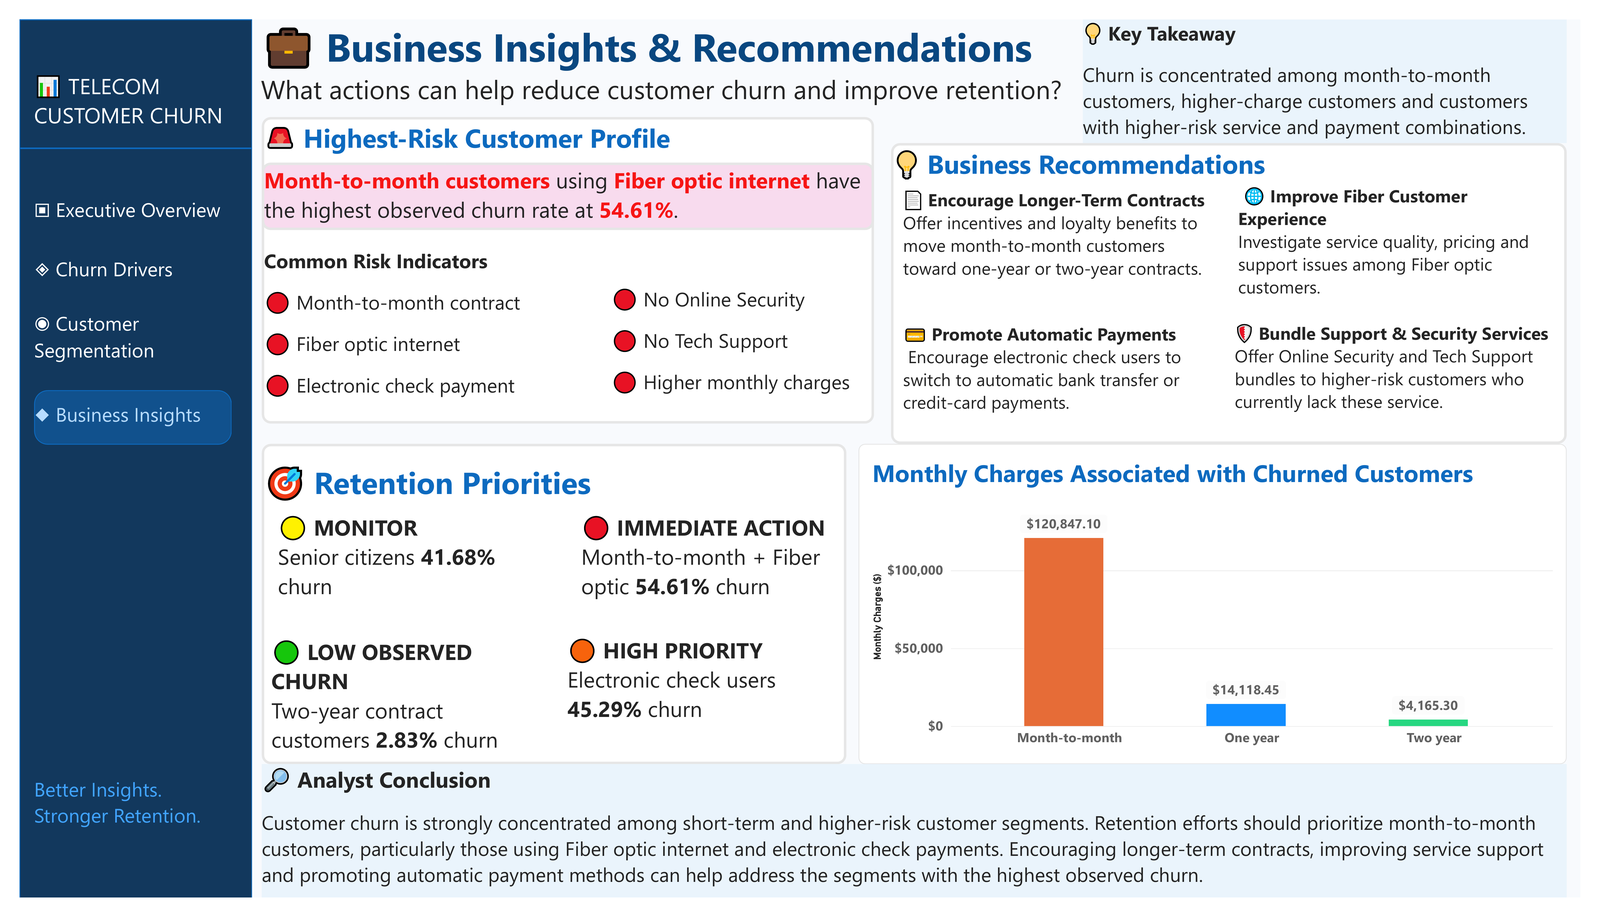

Layout of this report page (visuals, bound fields, positions):
{"tool":"powerbi","page":{"name":"Page 4","canvas":[1920,1080],"ordinal":3},"visuals":[{"type":"shape","box":[0,0,286.1,1080.6],"z":0},{"type":"textbox","box":[18.1,63.3,242.5,86.9],"z":1000},{"type":"shape","box":[0,99.5,285.9,117.6],"z":2000},{"type":"textbox","box":[18.1,468.7,242.5,54.3],"z":4000},{"type":"textbox","box":[18.1,930.2,242.5,103.2],"z":5000},{"type":"shape","box":[18.1,456,242.5,67],"z":6000},{"type":"textbox","box":[18.1,217.2,242.5,41.6],"z":7000},{"type":"textbox","box":[18.1,289.5,184.6,45.2],"z":8000},{"type":"textbox","box":[18.1,356.5,267.8,77.8],"z":8001},{"type":"textbox","box":[297.5,0,982.5,64.2],"z":8002},{"type":"textbox","box":[296.8,63.3,1009.8,56.1],"z":8003},{"type":"textbox","box":[297.5,119.9,753.4,376.7],"z":8004},{"type":"textbox","box":[727.8,289,308.2,179.8],"z":8005},{"type":"textbox","box":[297.5,175.5,753.4,83.5],"z":8006},{"type":"textbox","box":[1072.4,152,830.5,370.3],"z":8007,"group":"g3"},{"type":"textbox","box":[1087.4,206.7,383.1,137.4],"z":8008,"group":"g1"},{"type":"textbox","box":[1499,201.5,383.2,143.2],"z":8009,"group":"g1"},{"type":"textbox","box":[1087.4,372,383.1,115.9],"z":8010,"group":"g1"},{"type":"textbox","box":[1495.1,370.9,387.1,151],"z":8011,"group":"g1"},{"type":"group","id":"g1","title":"Group 1","box":[1087.4,201.5,794.8,320.3],"z":8012,"group":"g3"},{"type":"textbox","box":[297.5,522.3,719.2,393.8],"z":8013},{"type":"textbox","box":[318.8,605.8,340.4,150.5],"z":8015,"group":"g2"},{"type":"textbox","box":[691.3,605.8,325.4,125.8],"z":8016,"group":"g2"},{"type":"textbox","box":[310.3,759.2,317.4,156.8],"z":8017,"group":"g2"},{"type":"textbox","box":[674.2,756.3,342.5,128.1],"z":8018,"group":"g2"},{"type":"group","id":"g2","title":"Group 2","box":[310.3,605.8,706.4,310.2],"z":8019},{"type":"clusteredColumnChart","title":"Monthly Charges Associated with Churned Customers","fields":{"Category":["WA_Fn-UseC_-Telco-Customer-Churn.Contract"],"Y":["Sum(WA_Fn-UseC_-Telco-Customer-Churn.MonthlyCharges)"]},"box":[1031.7,522.3,871.2,393.8],"z":8020},{"type":"textbox","box":[297.5,916.1,1605.4,164.8],"z":8021},{"type":"textbox","box":[1307.8,0,595.1,152],"z":8022},{"type":"group","id":"g3","title":"Group 3","box":[1072.4,152,830.5,370.3],"z":8023}]}

Visuals, with their boxes in screenshot pixels (x1, y1, x2, y2), scaled from the page's 1920x1080 canvas onto the 1600x917 screenshot:
shape: <region>0, 0, 238, 916</region>
textbox: <region>15, 54, 217, 128</region>
shape: <region>0, 84, 238, 184</region>
textbox: <region>15, 398, 217, 444</region>
textbox: <region>15, 790, 217, 877</region>
shape: <region>15, 387, 217, 444</region>
textbox: <region>15, 184, 217, 220</region>
textbox: <region>15, 246, 169, 284</region>
textbox: <region>15, 303, 238, 369</region>
textbox: <region>248, 0, 1067, 55</region>
textbox: <region>247, 54, 1089, 101</region>
textbox: <region>248, 102, 876, 422</region>
textbox: <region>606, 245, 863, 398</region>
textbox: <region>248, 149, 876, 220</region>
textbox: <region>894, 129, 1586, 443</region>
textbox: <region>906, 176, 1225, 292</region>
textbox: <region>1249, 171, 1568, 293</region>
textbox: <region>906, 316, 1225, 414</region>
textbox: <region>1246, 315, 1568, 443</region>
"Group 1" group: <region>906, 171, 1568, 443</region>
textbox: <region>248, 443, 847, 778</region>
textbox: <region>266, 514, 549, 642</region>
textbox: <region>576, 514, 847, 621</region>
textbox: <region>259, 645, 523, 778</region>
textbox: <region>562, 642, 847, 751</region>
"Group 2" group: <region>259, 514, 847, 778</region>
"Monthly Charges Associated with Churned Customers" clusteredColumnChart: <region>860, 443, 1586, 778</region>
textbox: <region>248, 778, 1586, 916</region>
textbox: <region>1090, 0, 1586, 129</region>
"Group 3" group: <region>894, 129, 1586, 443</region>
